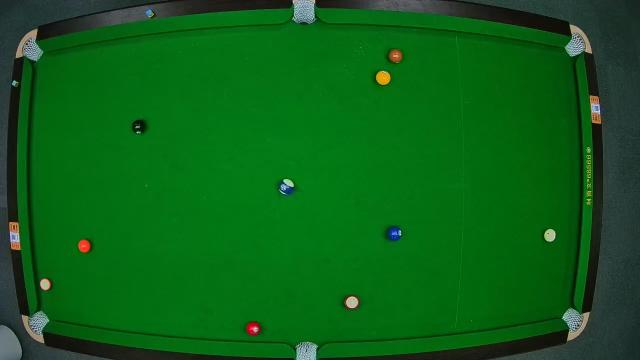bag1: (22, 39, 40, 61)
bag2: (292, 1, 318, 25)
bag3: (564, 34, 588, 56)
bag4: (29, 310, 49, 334)
bag5: (295, 340, 319, 360)
bag6: (563, 309, 585, 331)
ball0: (544, 228, 556, 244)
ball1: (376, 70, 392, 86)
ball10: (278, 178, 294, 196)
ball11: (344, 295, 360, 309)
ball12: (38, 278, 52, 292)
ball2: (385, 225, 403, 241)
ball3: (246, 320, 260, 336)
ball5: (76, 240, 92, 254)
ball7: (388, 49, 402, 63)
ball8: (131, 119, 147, 135)
